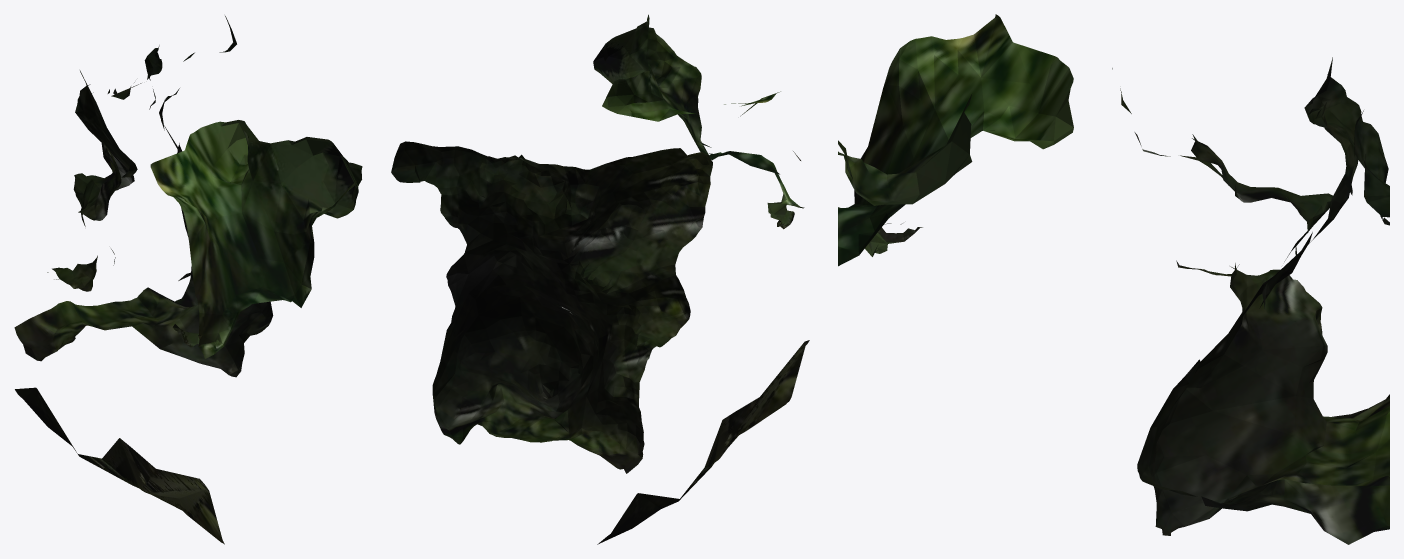
3 renders of one model, left to right at view 1: azimuth 30°, elevation 25°; view 2: azimuth 150°, elevation 25°; view 3: azimuth 270°, elevation 25°, orthographic. The views are drawn at different scales.
Size of the model in its own units: 1.11 by 1.67 by 1.67.
4 materials, 4 textured.
